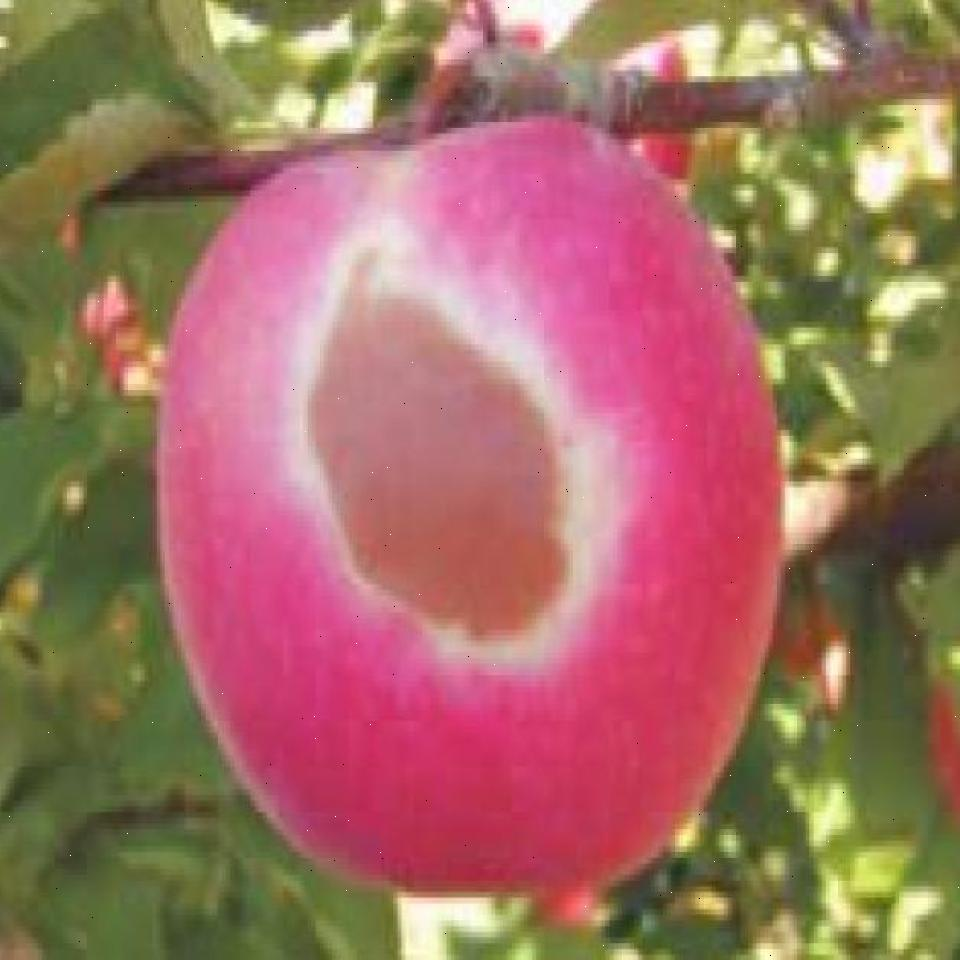Sunscald: (292, 230, 614, 675)
